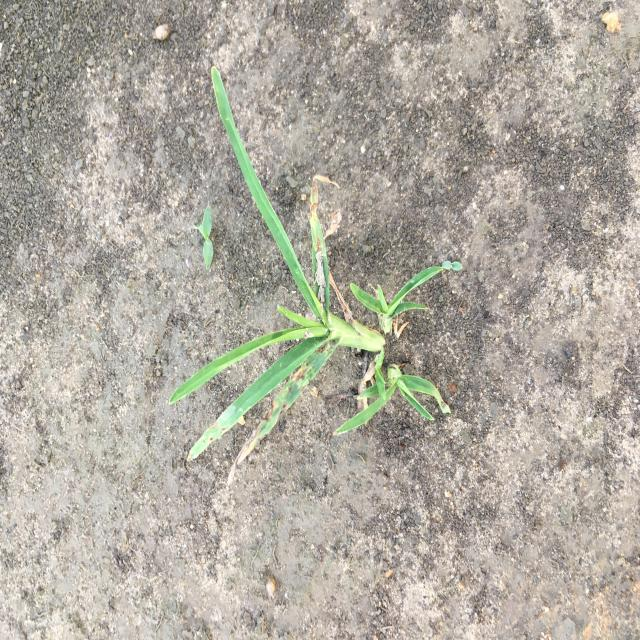Goosegrass: (167, 64, 453, 490)
